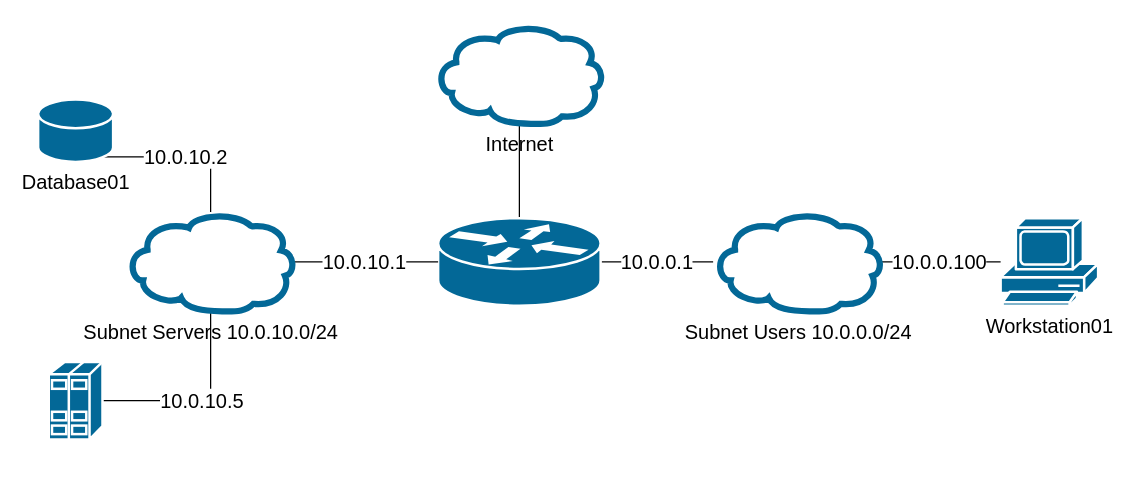
Some shapes in this 1134 by 494 pixel diagram are drawn without their labels. The shapes that lost their labels are listed below. From the top down, each one's centre as x and y in pixels, then its label:
At point (518, 261): "Router01".
At point (75, 400): "Server01".
